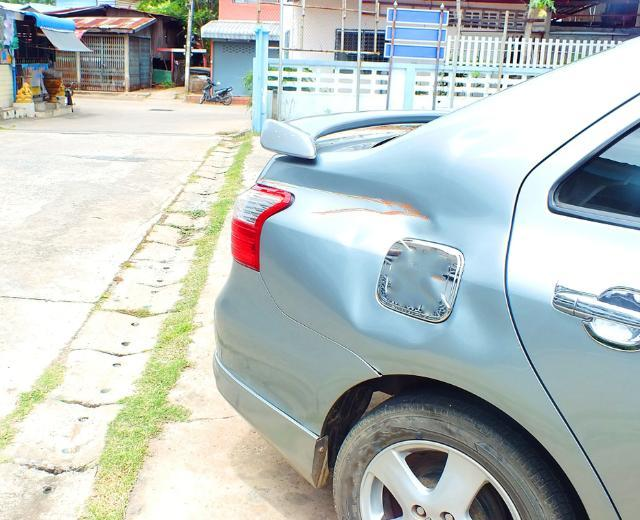Fender: (267, 159, 561, 389)
